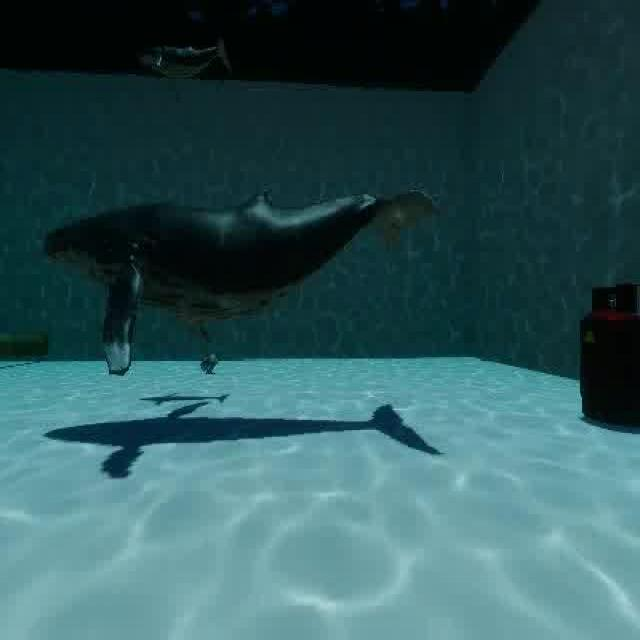Cylinder: (571, 272, 640, 444)
Pipe: (0, 322, 50, 369)
Shell: (190, 339, 230, 376)
Whale: (46, 177, 474, 392), (116, 33, 246, 82)
